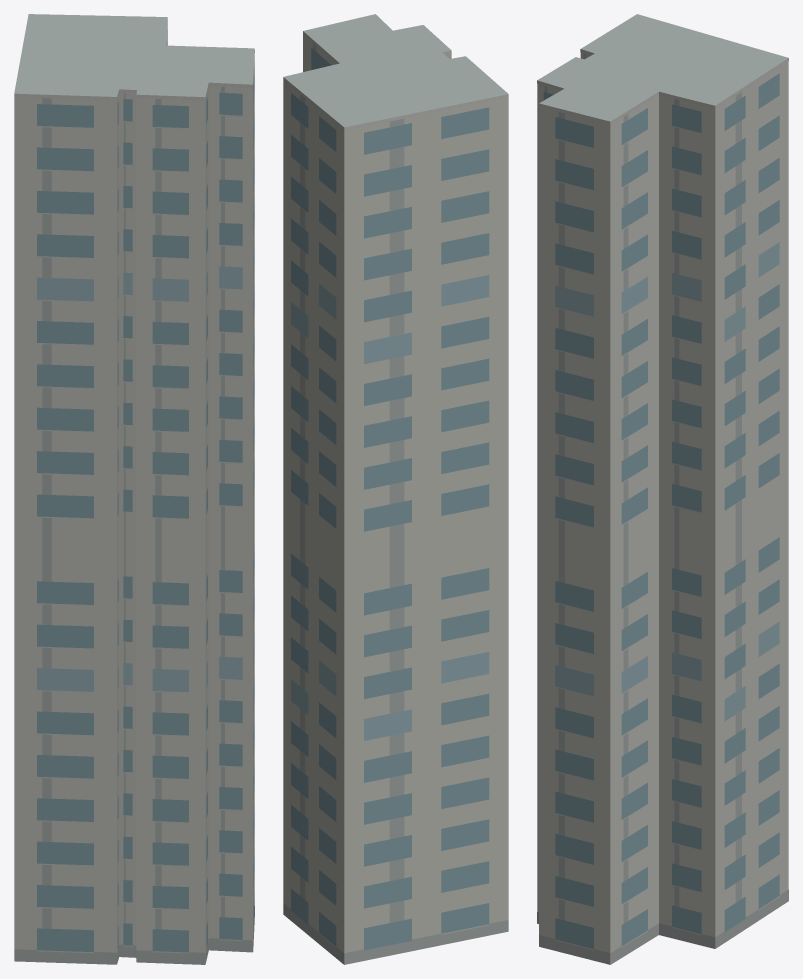
The model's file is survey-upis-32737082.glb.
The picture shows the model from 3 angles, left to right: view 1: azimuth 30°, elevation 25°; view 2: azimuth 150°, elevation 25°; view 3: azimuth 270°, elevation 25°; orthographic projection. The views are drawn at different scales.
Visible parts, largest first — view 1: survey-upis-32737082.tmp; view 2: survey-upis-32737082.tmp; view 3: survey-upis-32737082.tmp.
Part boxes in pixels (x1,y1,x2,y2): survey-upis-32737082.tmp: (14, 14, 254, 964); survey-upis-32737082.tmp: (283, 14, 508, 964); survey-upis-32737082.tmp: (537, 14, 788, 964).
Size of the model in its own units: 16.7 by 61 by 16.5.
